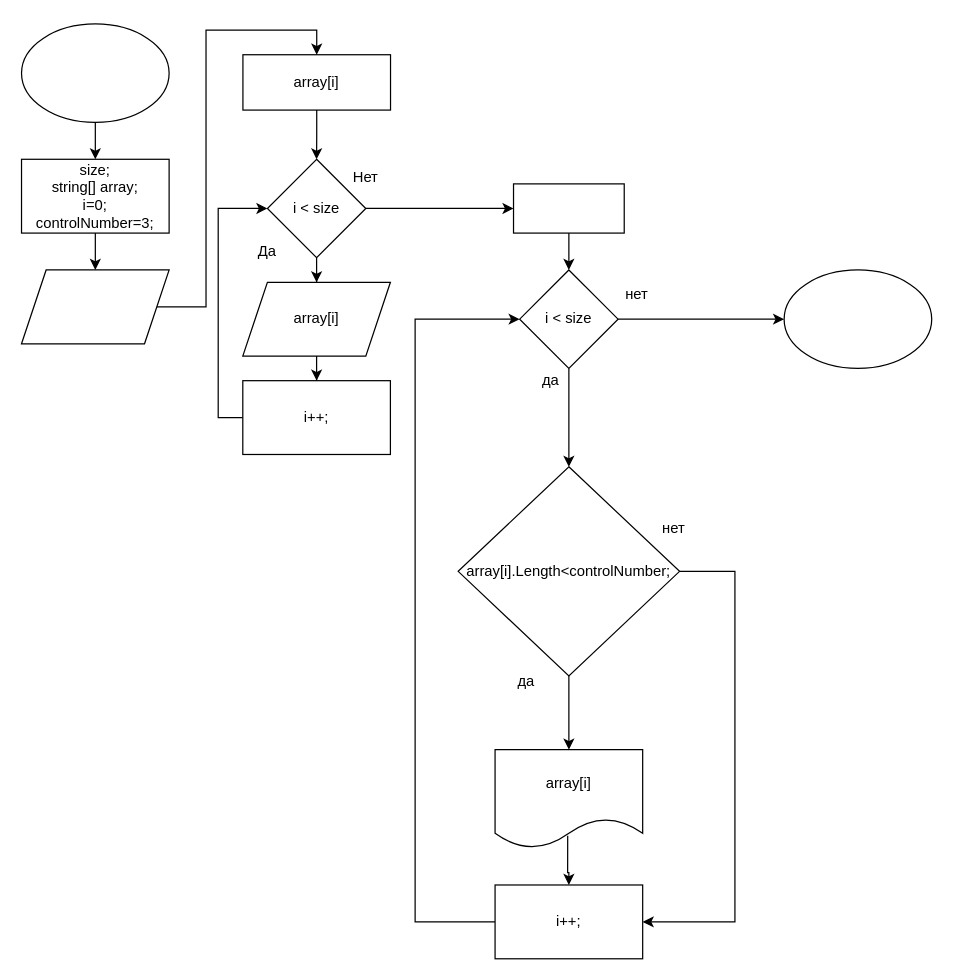
This 953x980 diagram has some shape labels left out. The shapes that lost their labels are listed below. From the top down, each one's centre as x and y in pixels, then its label:
point 94,72: start
point 568,208: i=0;
point 94,306: size
point 857,318: end
